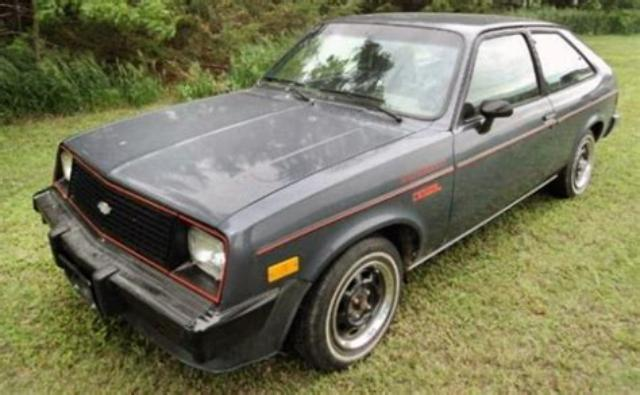chevette-1983: (32, 14, 618, 371)
